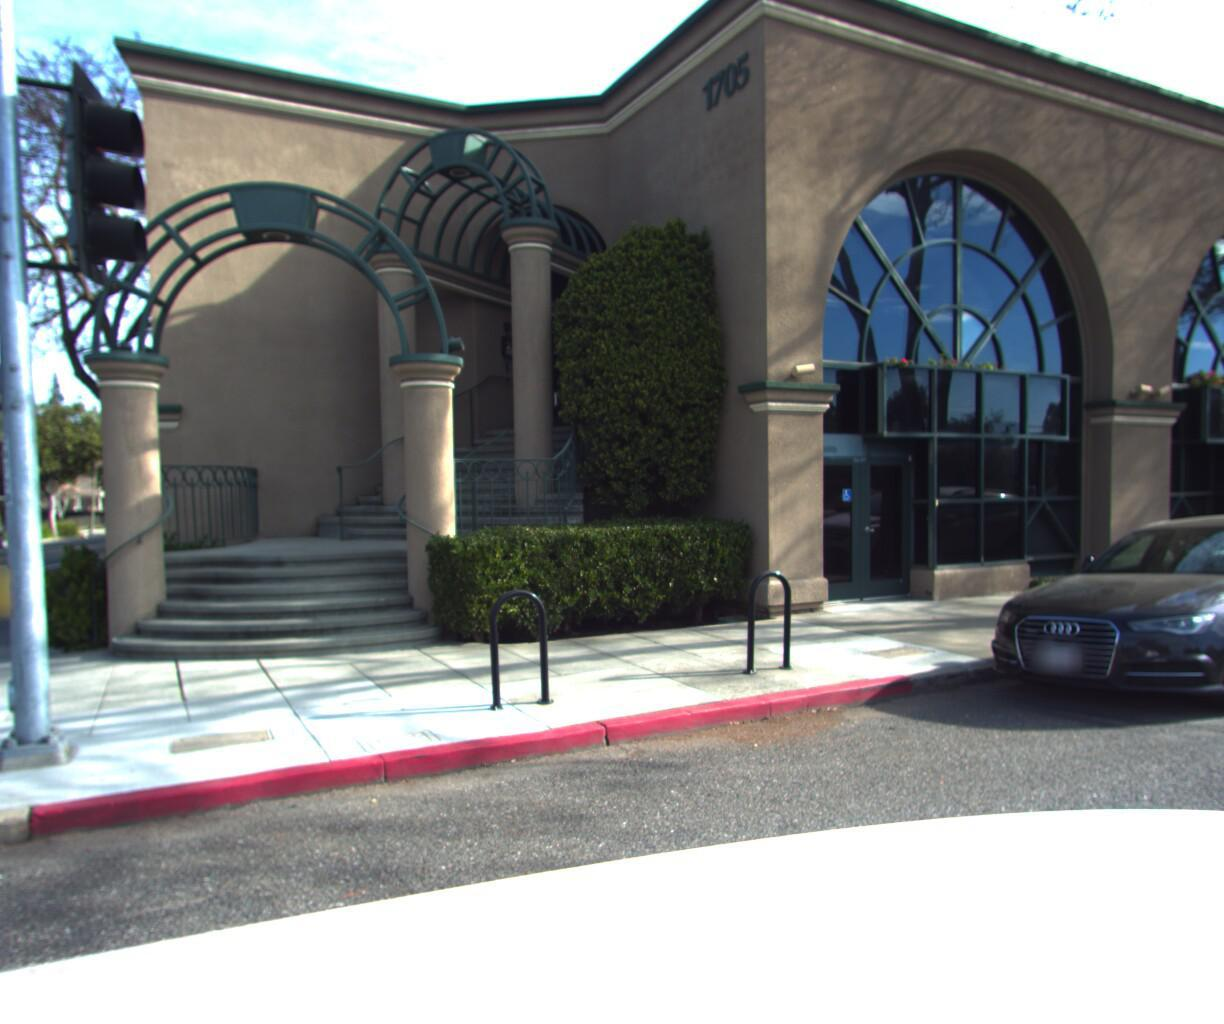car: (968, 497, 1224, 756), (0, 507, 11, 547)
